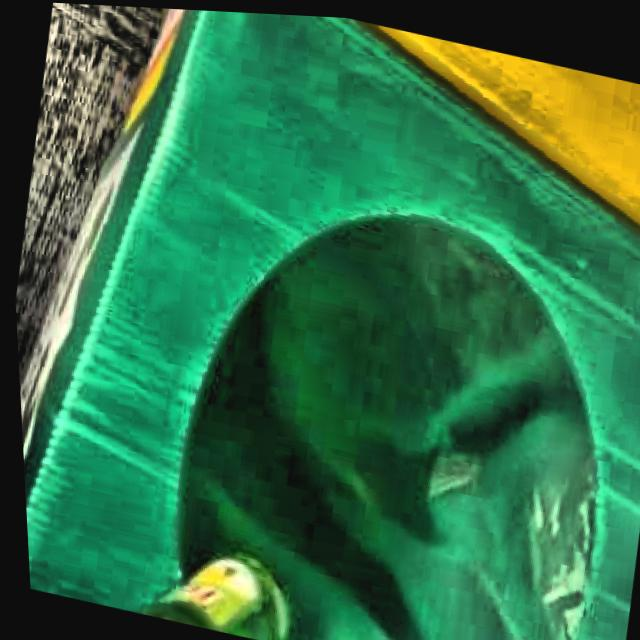glass: (133, 554, 275, 640)
